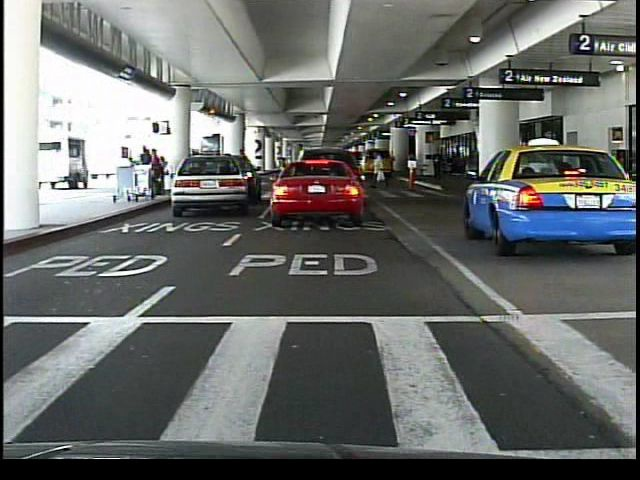person: (233, 145, 253, 201), (272, 157, 290, 206), (144, 147, 159, 198), (293, 149, 307, 203), (372, 150, 387, 189), (432, 150, 446, 185)
